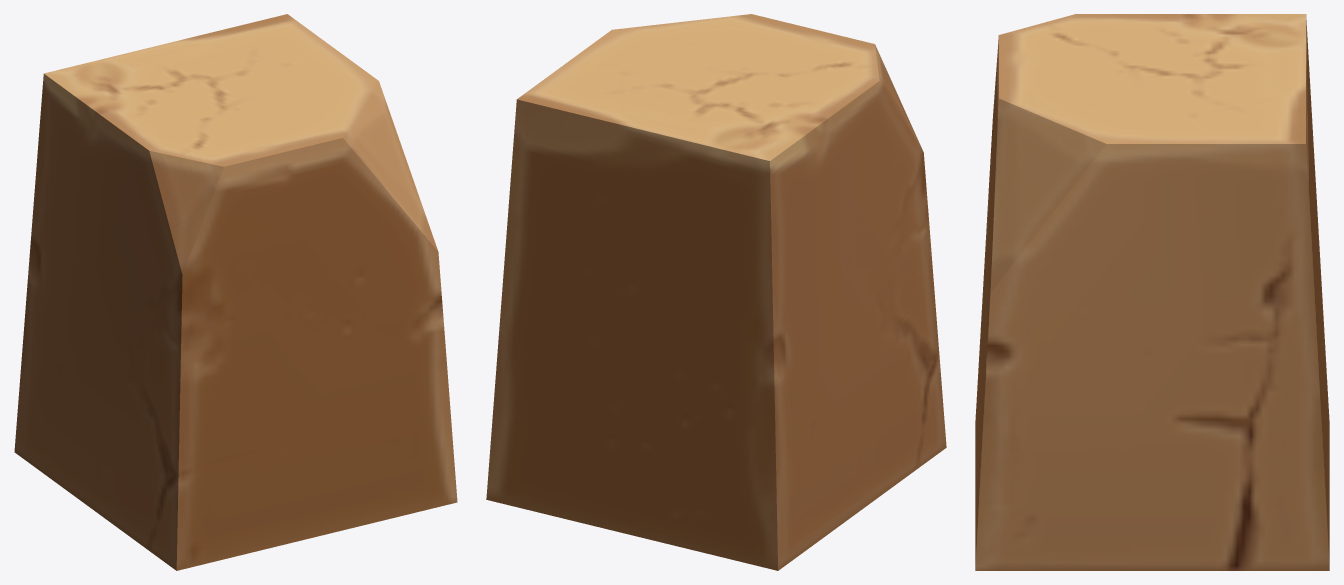
File: Tall Rock_03.fbx
3 renders of one model, left to right at view 1: azimuth 30°, elevation 25°; view 2: azimuth 150°, elevation 25°; view 3: azimuth 270°, elevation 25°, orthographic. The views are drawn at different scales.
Visible parts, largest first — view 1: Tall Rock_03; view 2: Tall Rock_03; view 3: Tall Rock_03.
Part boxes in pixels (x1=…): Tall Rock_03: x1=14, y1=14, x2=457, y2=570; Tall Rock_03: x1=486, y1=14, x2=946, y2=570; Tall Rock_03: x1=975, y1=14, x2=1329, y2=570.
Size of the model in its own units: 0.1 by 0.13 by 0.1.
